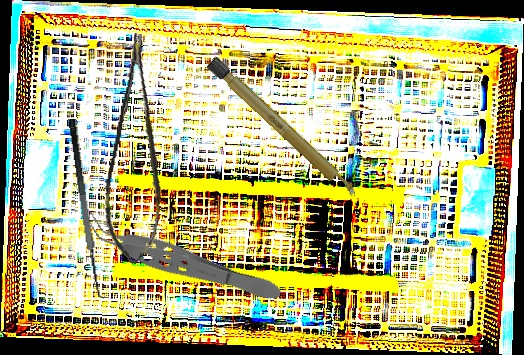Micro Scissor: (95, 32, 186, 266)
Scalpel Handle: (205, 55, 361, 203)
Spatula Surgical: (66, 116, 114, 301)
Tissue Forceps: (79, 210, 286, 310)
